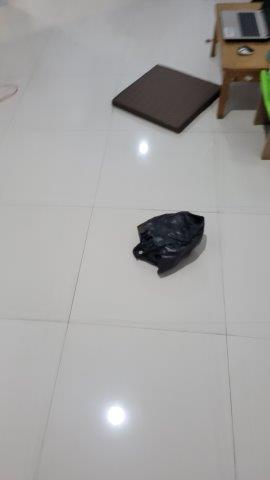plastik: (132, 210, 208, 276)
